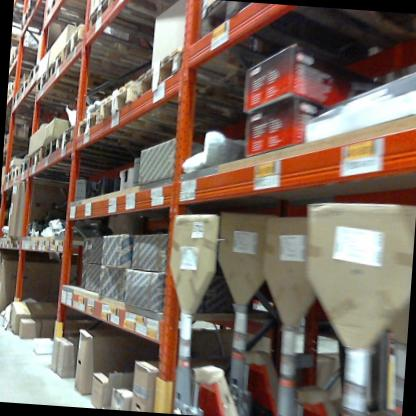pallet: (98, 69, 251, 145), (134, 49, 269, 118), (75, 106, 201, 165), (31, 61, 137, 117), (62, 21, 168, 75), (45, 44, 160, 91), (85, 0, 197, 47), (55, 122, 139, 169), (42, 136, 137, 173), (27, 145, 124, 179), (17, 154, 90, 187), (12, 167, 93, 193), (2, 169, 13, 193)
pallet_truck: (293, 191, 416, 416), (250, 201, 359, 416), (159, 190, 261, 416), (204, 201, 285, 416)
